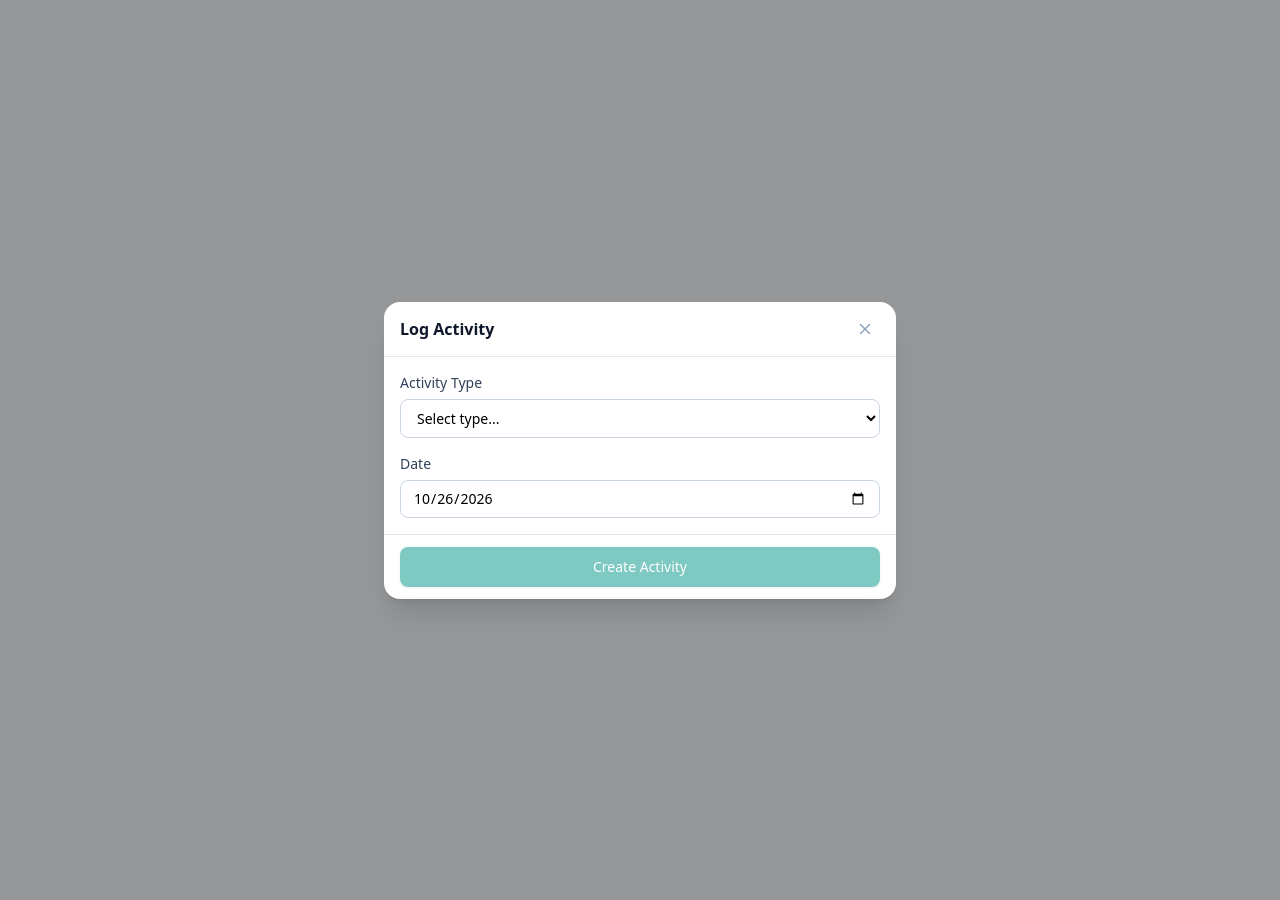
Scenario: CreateActivityModal › shows target dropdown and allows selection
The width and height of the screenshot is (1280, 900).
Select "Visit" in the dropdown labelled "Activity Type" at (640, 418), box [400,398,880,438]
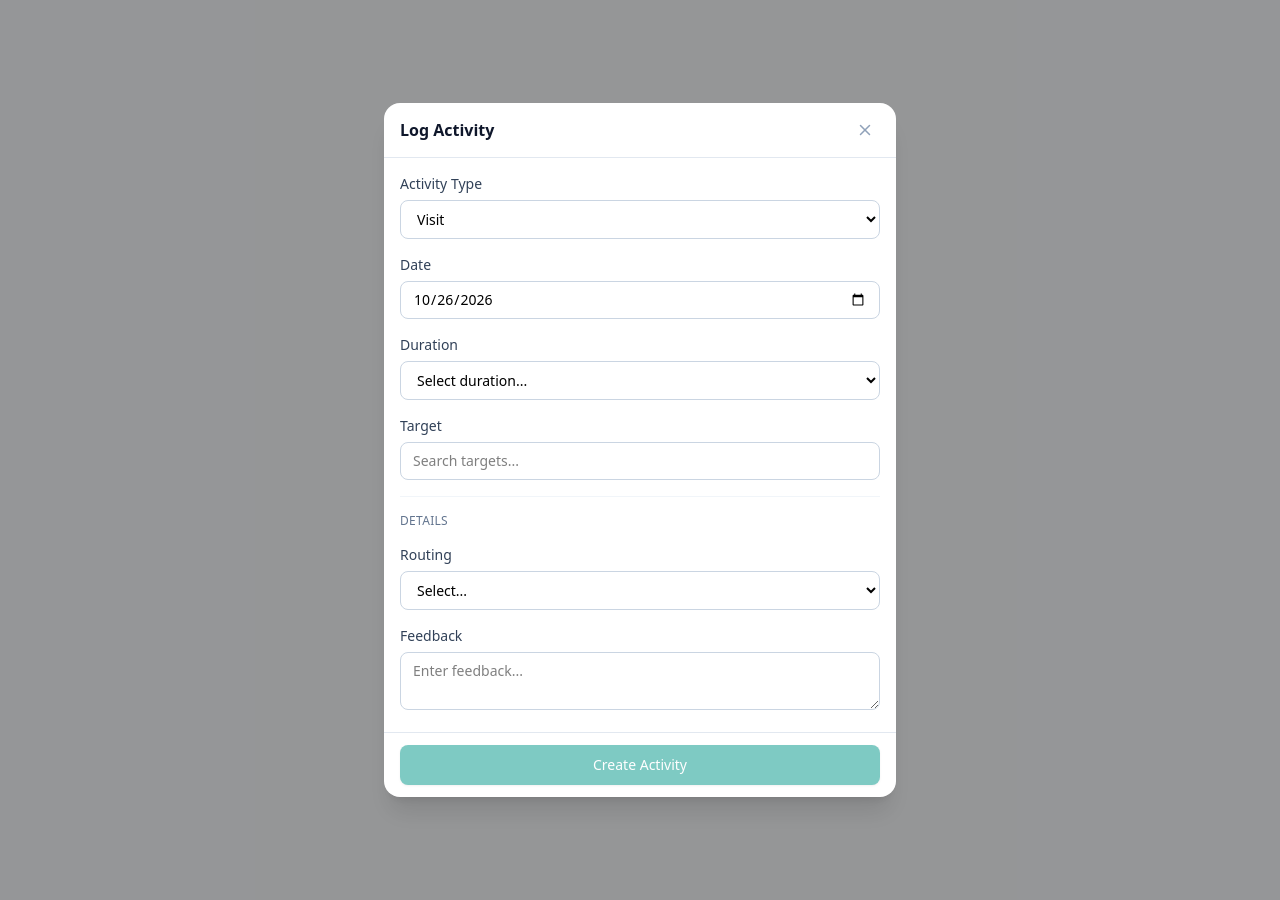
Type "Pharmacy" into the field with placeholder "Search targets..." at (640, 461), box [400,442,880,480]
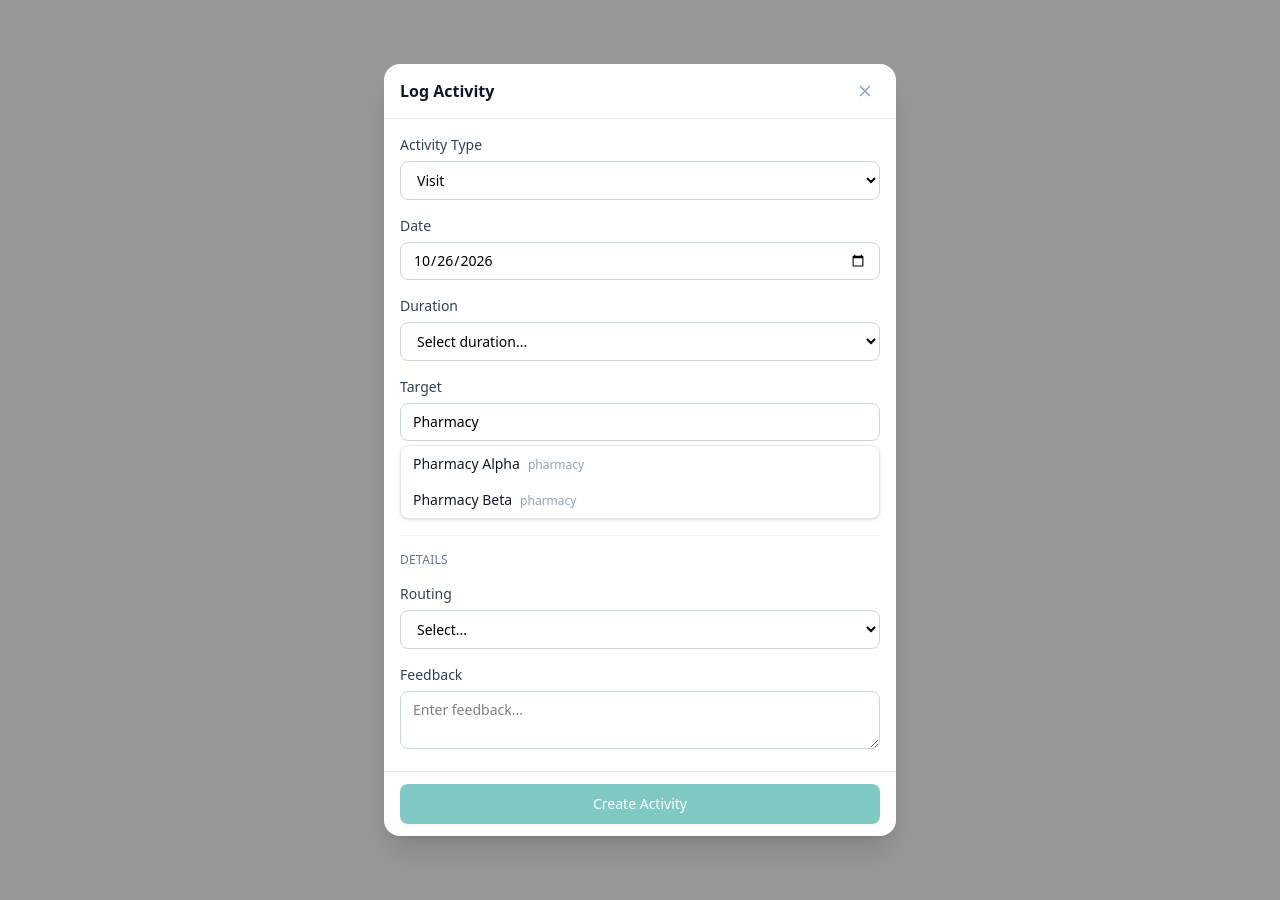
Now the text "Pharmacy Alpha" is shown
Click the text "Pharmacy Alpha" at (466, 464), box [413,454,520,473]
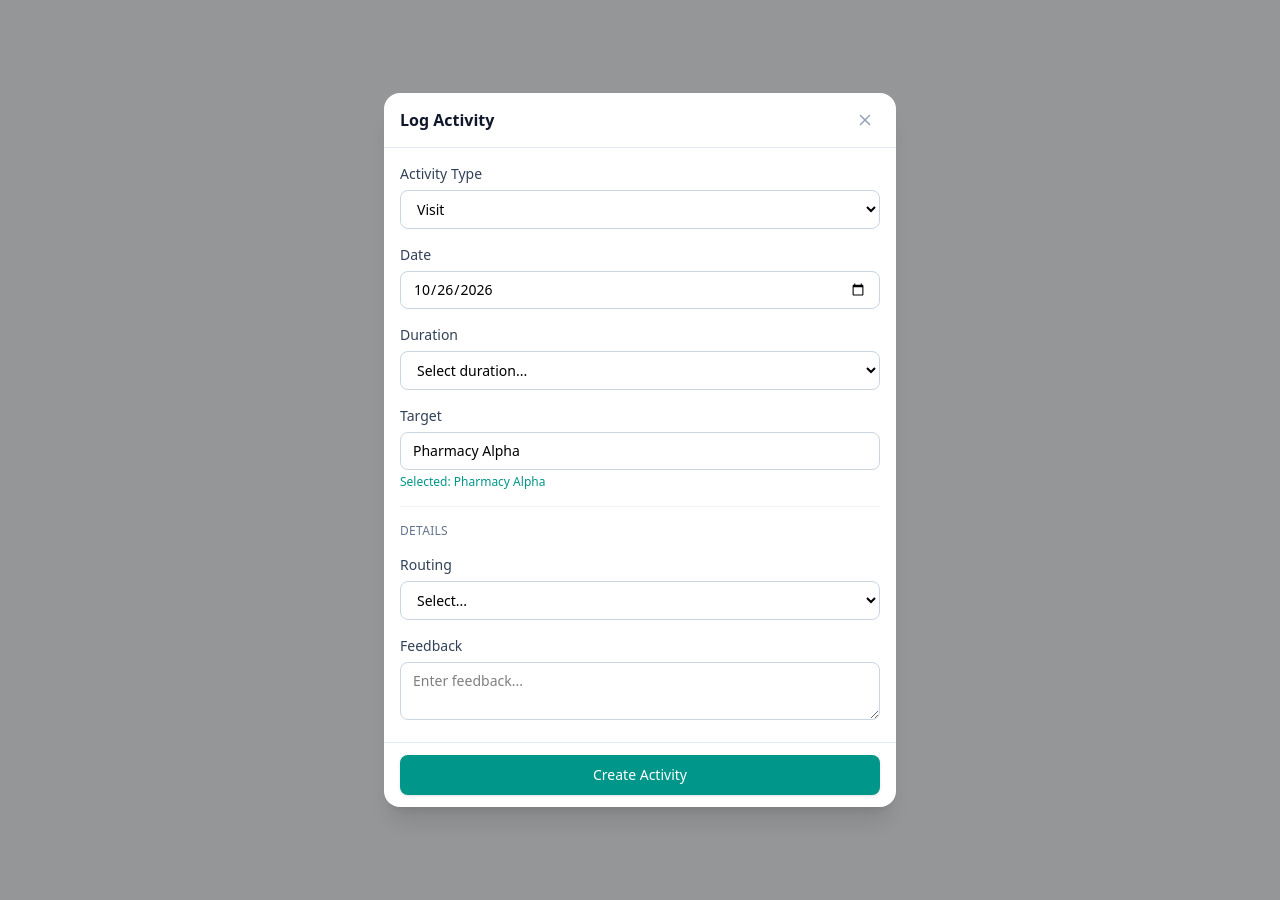
Now the text "Selected: Pharmacy Alpha" is shown, box [400,473,545,490]
